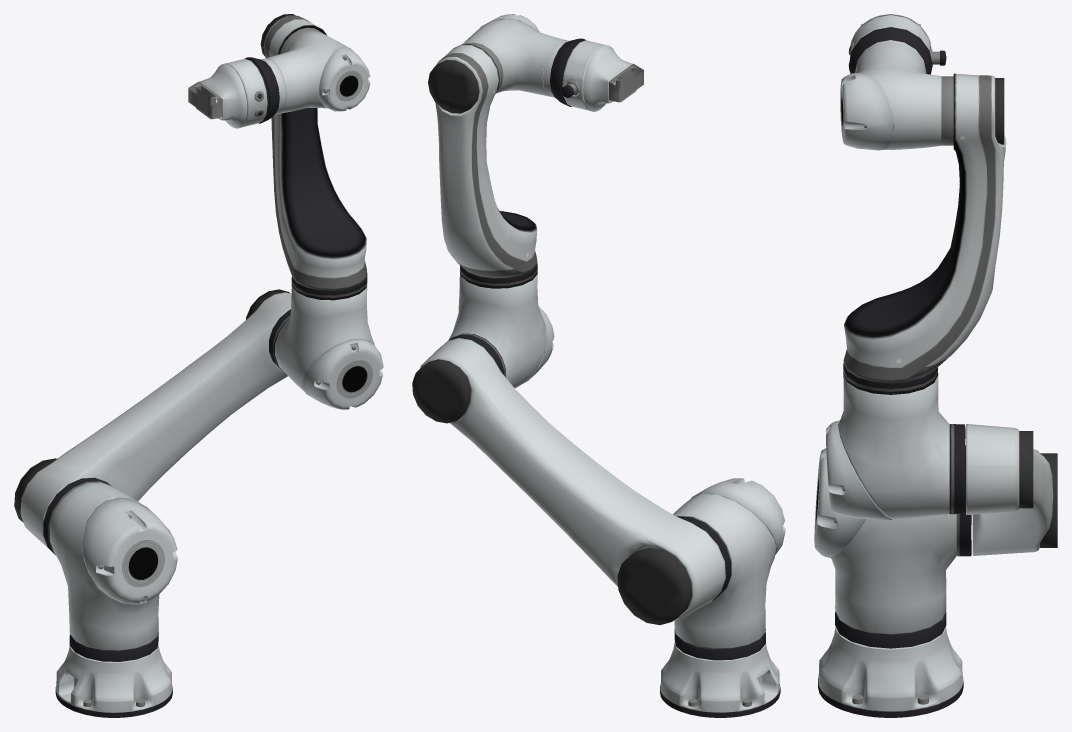
File: gripper_robot.glb
The picture shows the model from 3 angles, left to right: view 1: azimuth 30°, elevation 25°; view 2: azimuth 150°, elevation 25°; view 3: azimuth 270°, elevation 25°; orthographic projection. The views are drawn at different scales.
Parts seen in each view (by area): view 1: base.009, hand01, hand03, hand02, hand04, hand05; view 2: hand01, base.009, hand03, hand02, hand04, hand05; view 3: base.009, hand03, hand02, hand04, hand01.
Boxes of the visible parts, bbox=[...] form: base.009: bbox=[43, 477, 177, 717]; hand01: bbox=[14, 289, 291, 547]; hand03: bbox=[260, 14, 366, 290]; hand02: bbox=[269, 273, 383, 409]; hand04: bbox=[216, 27, 370, 128]; hand05: bbox=[188, 64, 247, 128]; hand01: bbox=[412, 338, 725, 624]; base.009: bbox=[660, 478, 785, 717]; hand03: bbox=[428, 44, 537, 278]; hand02: bbox=[448, 264, 554, 388]; hand04: bbox=[463, 14, 614, 111]; hand05: bbox=[583, 45, 643, 111]; base.009: bbox=[814, 445, 971, 717]; hand03: bbox=[843, 73, 1006, 382]; hand02: bbox=[826, 363, 965, 520]; hand04: bbox=[840, 14, 953, 150]; hand01: bbox=[966, 424, 1057, 555].
Bounding box in the file's own units: 1.44 × 2.73 × 0.808.
Materials: 1 (1 with a texture image).
